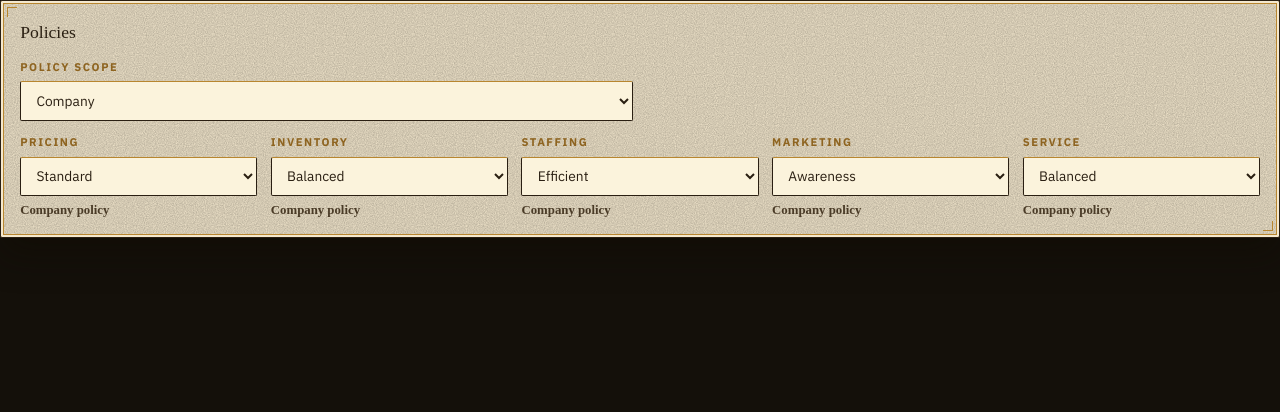
Test case: PolicyPanel › renders effective, parent, and provenance values through company, city, and store scopes
Expected: the text "Company policy" below "Pricing" is shown, [20,203,110,217]
Select "City" in the dropdown labelled "Policy scope". click: (327, 101)
box: [20,81,633,121]
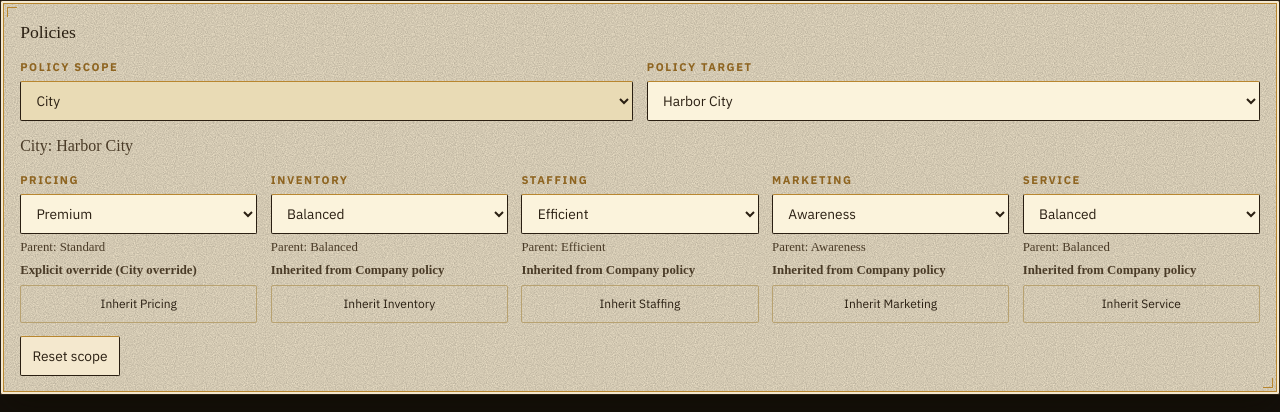
Result: the dropdown named "Pricing" shows "Premium" at [20,194,257,234]
Result: the text "Parent: Standard" is shown at [20,240,105,254]
Select "Store" in the dropdown labelled "Policy scope". click: (327, 101)
box: [20,81,633,121]
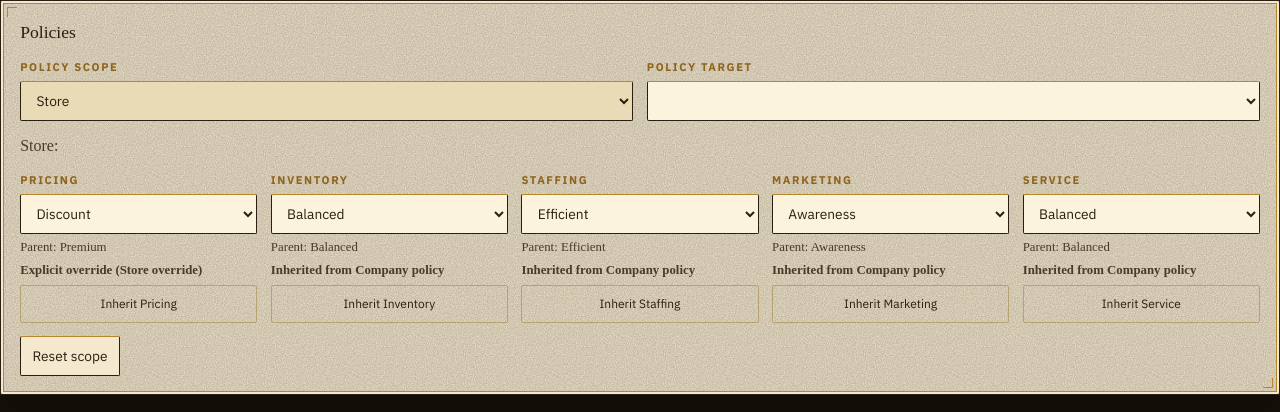
Result: the dropdown named "Pricing" shows "Discount" at [20,194,257,234]
Result: the text "Parent: Premium" is shown at [20,240,107,254]
